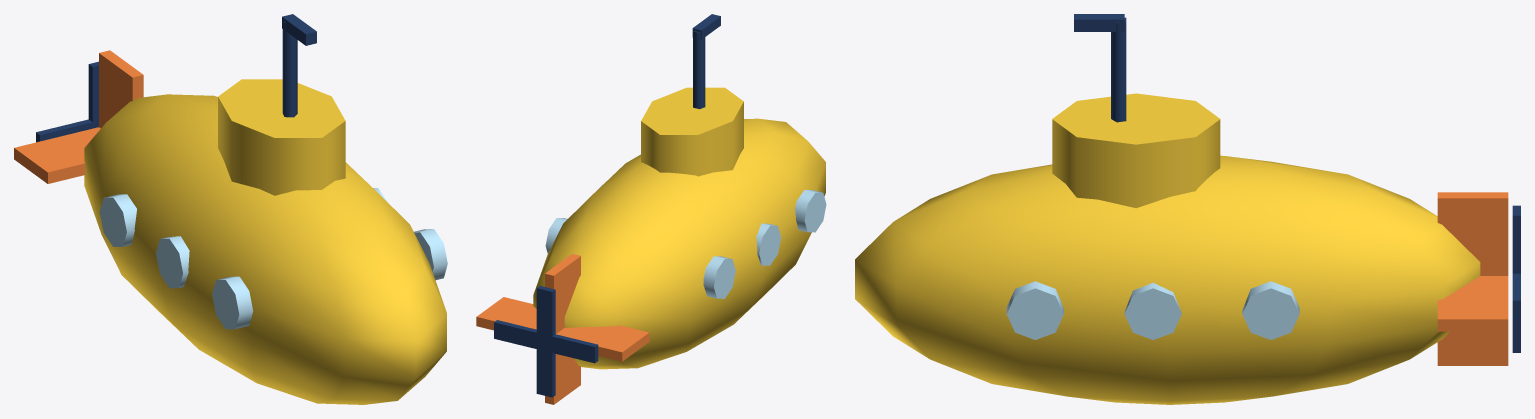
Rendered from submarino.glb.
The picture shows the model from 3 angles, left to right: view 1: azimuth 30°, elevation 25°; view 2: azimuth 150°, elevation 25°; view 3: azimuth 270°, elevation 25°; orthographic projection. The views are drawn at different scales.
Visible parts, largest first — view 1: submarino, giro_z_0; view 2: submarino, giro_z_0; view 3: submarino, giro_z_0.
Part boxes in pixels (left/top/right/bottom): submarino: left=14, top=14, right=447, bottom=404; giro_z_0: left=36, top=61, right=98, bottom=142; submarino: left=476, top=14, right=826, bottom=404; giro_z_0: left=494, top=286, right=598, bottom=397; submarino: left=855, top=14, right=1508, bottom=404; giro_z_0: left=1512, top=205, right=1520, bottom=352.
Bounding box in the file's own units: 1.5 × 2.47 × 3.96.
